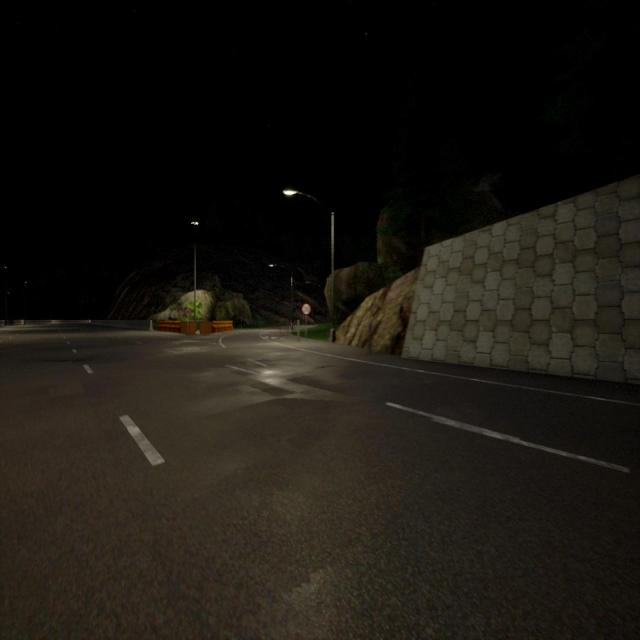Traffic_Signs: (302, 302, 312, 314), (184, 308, 192, 317)
